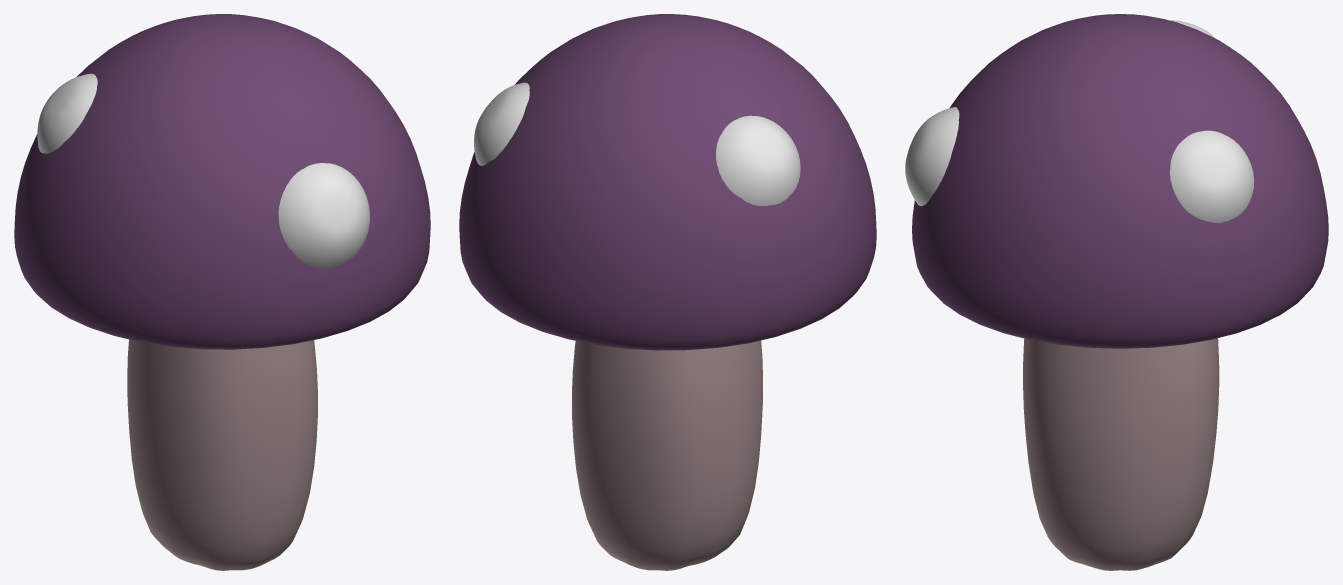
File: purple mushroom.fbx
3 views of the same model, side by side, from view 1: azimuth 30°, elevation 25°; view 2: azimuth 150°, elevation 25°; view 3: azimuth 270°, elevation 25° (orthographic).
Visible parts, largest first — view 1: polySurface19; view 2: polySurface19; view 3: polySurface19.
Part boxes in pixels (x1,y1,x2,y2): polySurface19: [14, 14, 430, 570]; polySurface19: [459, 14, 876, 570]; polySurface19: [905, 14, 1328, 570].
Size of the model in its own units: 1.85 by 2.56 by 1.88.
Materials: 1 (1 with a texture image).
